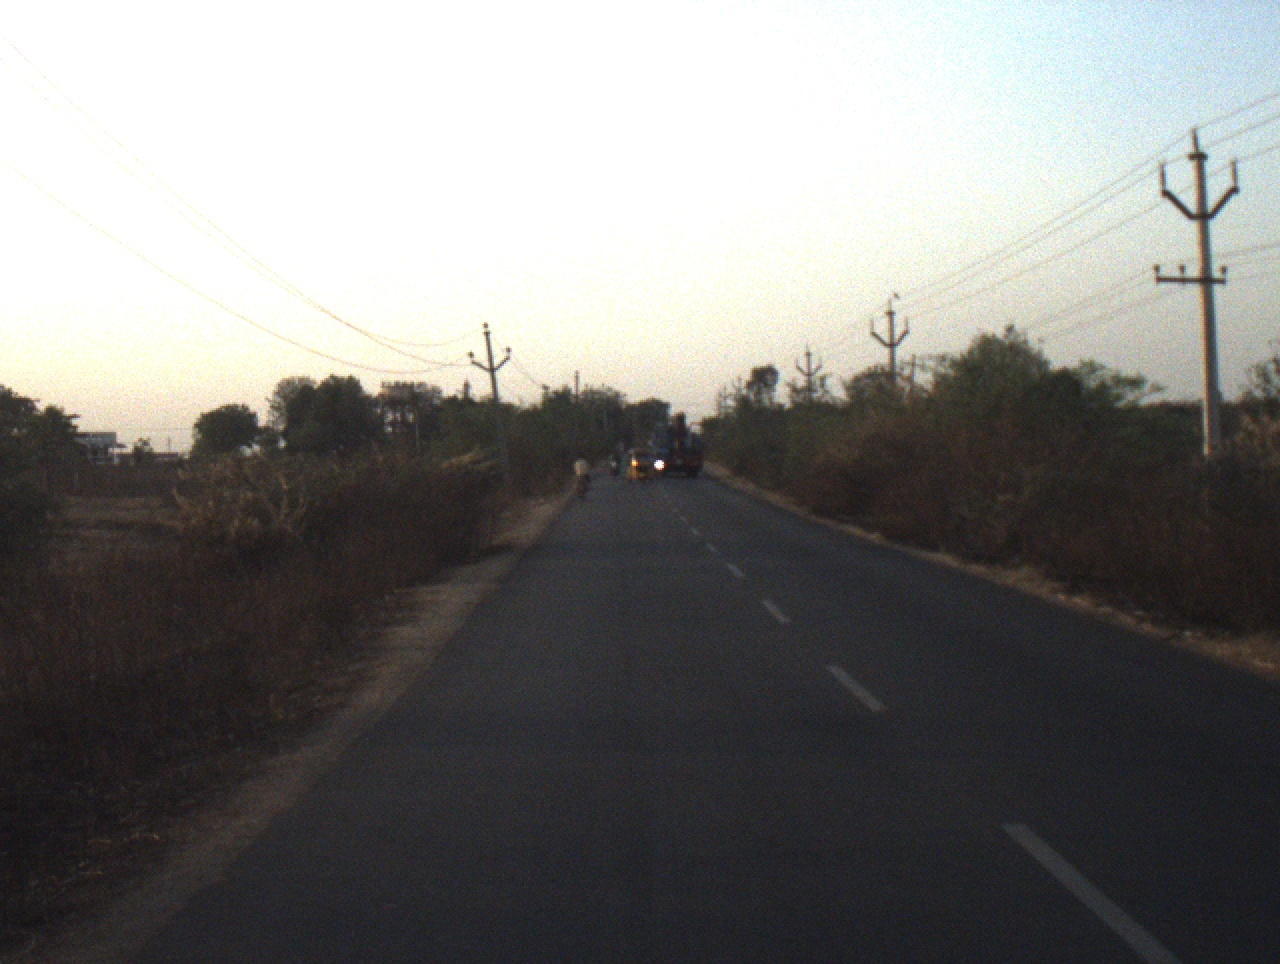autorickshaw: (624, 448, 656, 488)
bicycle: (577, 476, 589, 504)
motorcycle: (611, 464, 619, 474)
rider: (574, 450, 591, 485), (610, 450, 618, 468)
vehicle fallback: (648, 406, 705, 477)
